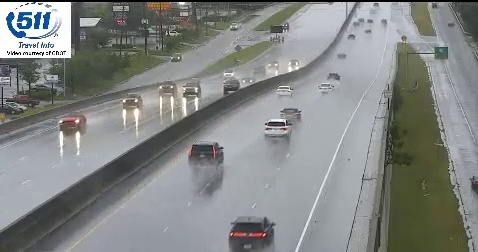car: (229, 217, 275, 250), (189, 142, 223, 166), (264, 118, 292, 137), (281, 108, 300, 121), (276, 85, 291, 96), (318, 83, 334, 93)
